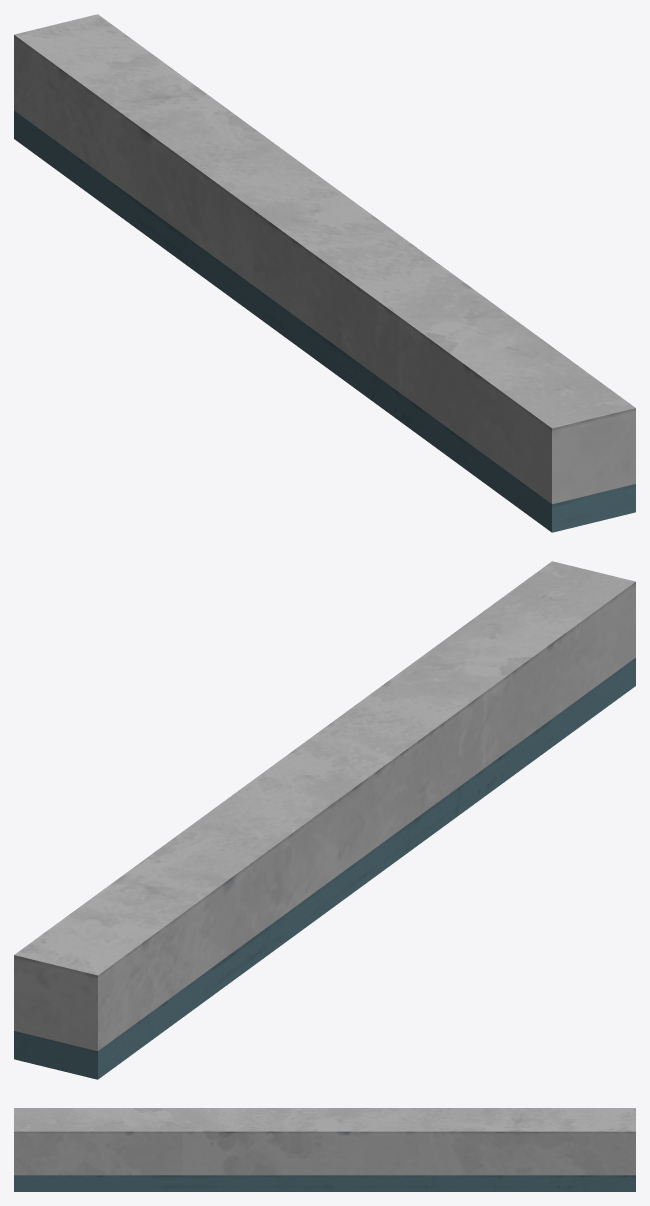
File: HH_Ceiling_Bulkhead_2m.fbx
The picture shows the model from 3 angles, top to bottom: view 1: azimuth 30°, elevation 25°; view 2: azimuth 150°, elevation 25°; view 3: azimuth 270°, elevation 25°; orthographic projection. The views are drawn at different scales.
Visible parts, largest first — view 1: HH_Ceiling_Bulkhead_2m; view 2: HH_Ceiling_Bulkhead_2m; view 3: HH_Ceiling_Bulkhead_2m.
Part boxes in pixels (x1,y1,x2,y2): HH_Ceiling_Bulkhead_2m: (14,14,635,532); HH_Ceiling_Bulkhead_2m: (14,561,635,1079); HH_Ceiling_Bulkhead_2m: (14,1108,635,1191).
Bounding box in the file's own units: 18 × 21.38 × 200.
